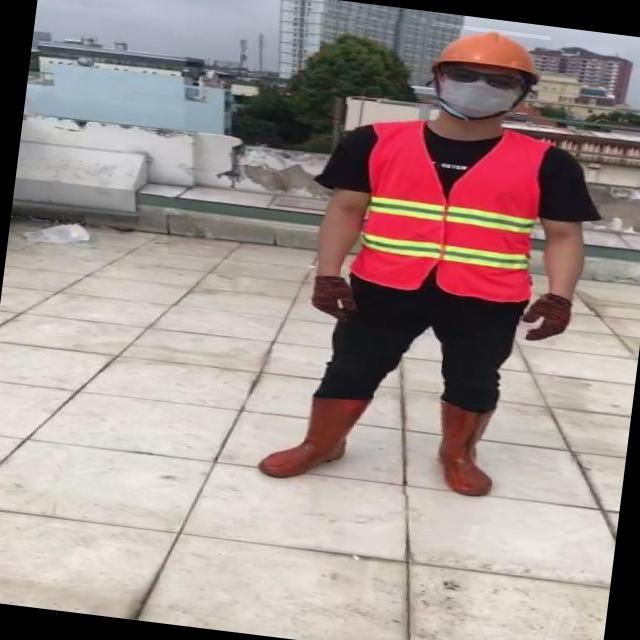Gloves: (522, 291, 576, 348), (312, 273, 360, 320)
Helmet: (427, 22, 551, 83)
Human: (252, 11, 625, 515)
Safety Boot: (259, 384, 372, 487), (428, 397, 503, 497)
Safety Vest: (348, 117, 549, 304)
